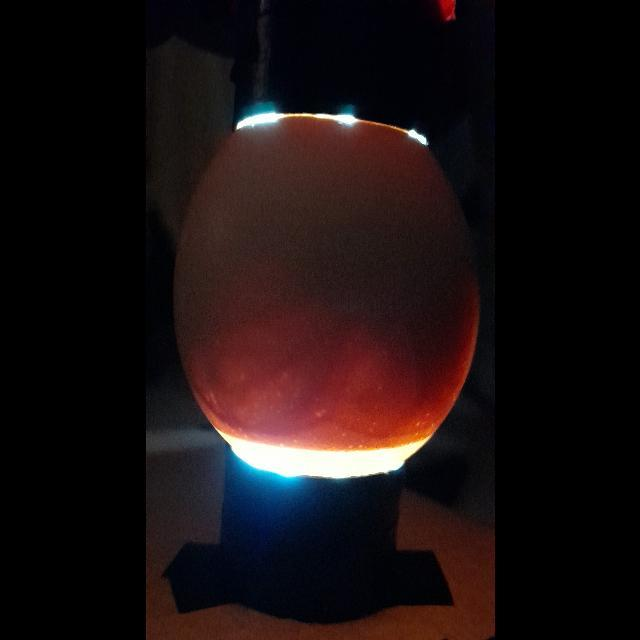Fertile: (171, 111, 471, 473)
